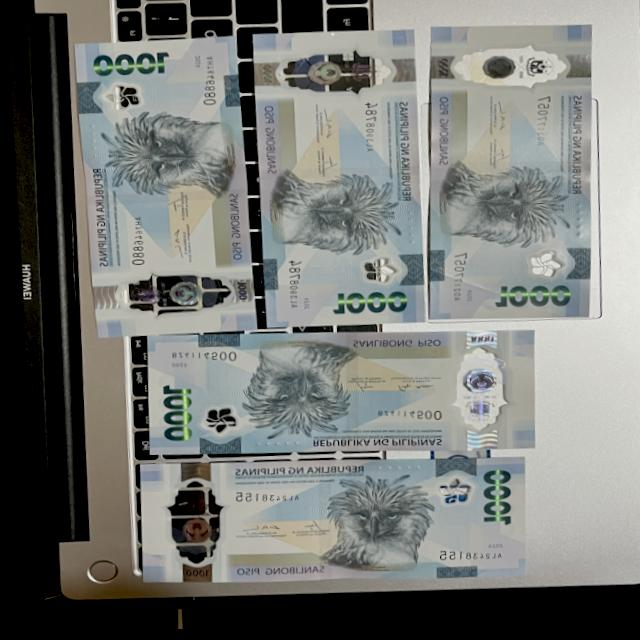clear_window: (426, 33, 593, 109), (85, 261, 252, 324), (433, 332, 515, 456)
eagle: (209, 333, 361, 443), (294, 468, 432, 581), (421, 158, 571, 260), (98, 105, 241, 211)
sampaguita: (90, 72, 151, 116), (510, 245, 566, 292), (344, 252, 404, 294), (422, 472, 472, 514), (184, 401, 235, 439)
